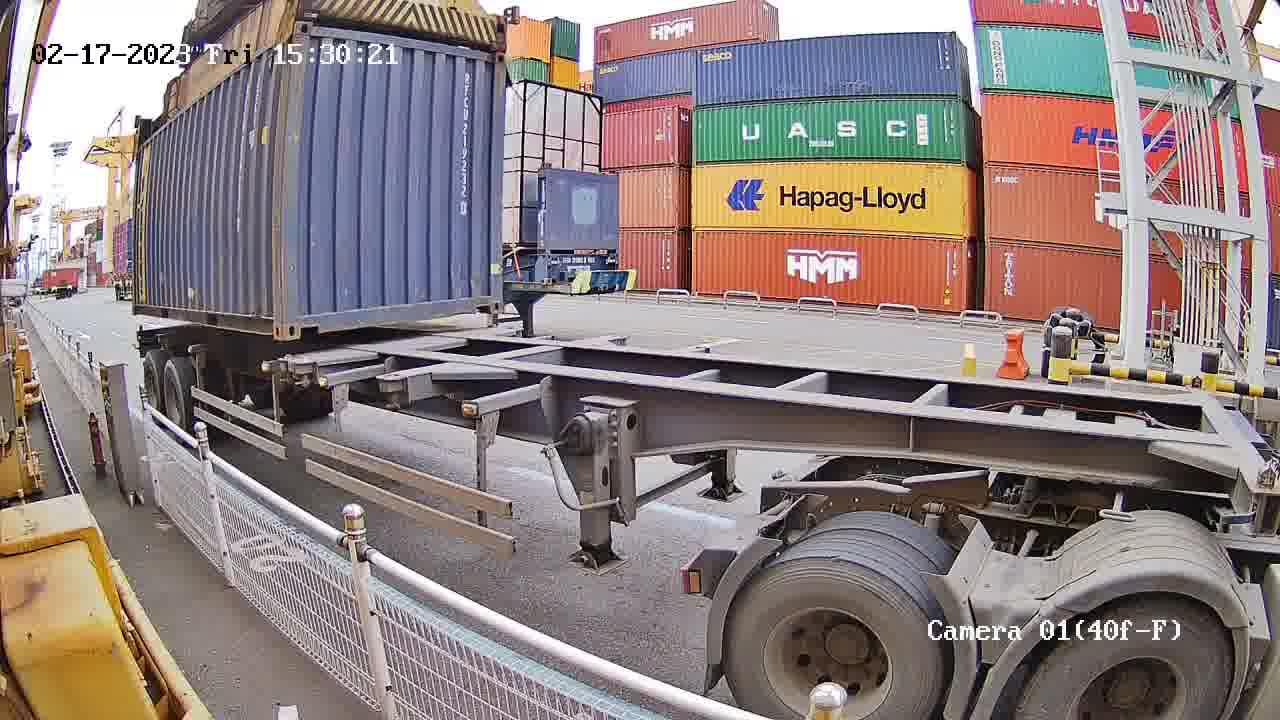Chassis: (292, 325, 521, 373), (263, 325, 490, 363)
Cone: (292, 357, 310, 393), (263, 359, 283, 384)
Hole_L: (283, 304, 315, 339)
Hole_R: (259, 307, 283, 337), (477, 286, 502, 313)
Tire: (162, 363, 187, 434), (142, 359, 160, 417)
